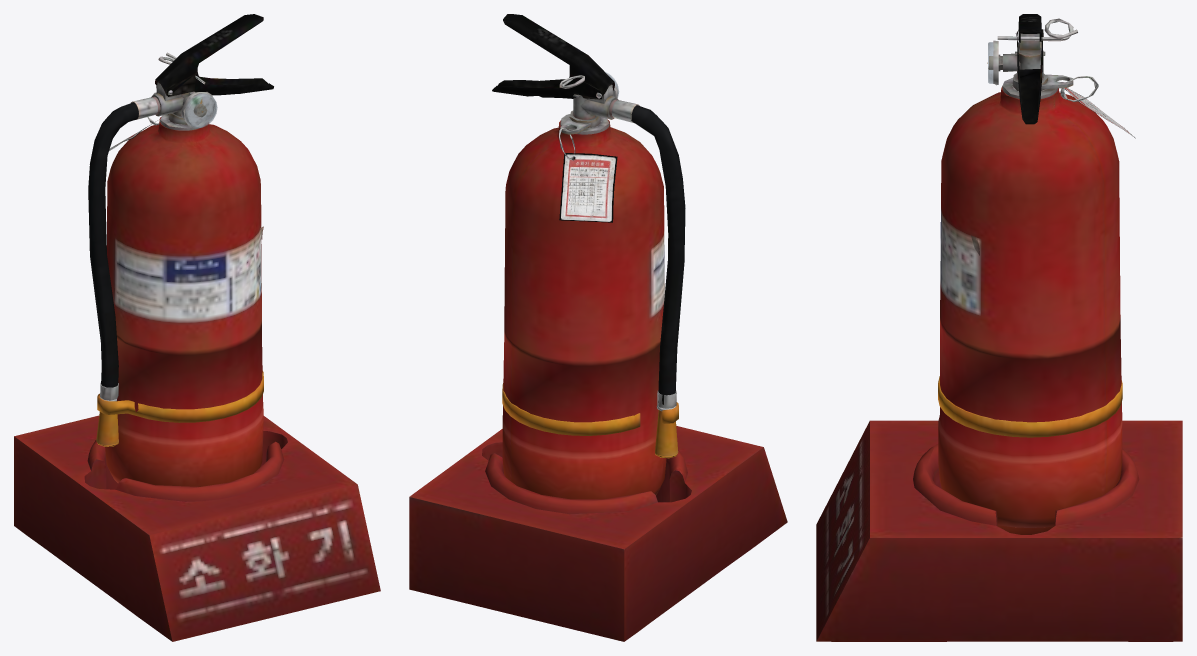
File: korean_fire_extinguisher_01.glb
The picture shows the model from 3 angles, left to right: view 1: azimuth 30°, elevation 25°; view 2: azimuth 150°, elevation 25°; view 3: azimuth 270°, elevation 25°; orthographic projection. The views are drawn at different scales.
Parts seen in each view (by area): view 1: 02_low, 02_low_1; view 2: 02_low, 02_low_2; view 3: 02_low.
Boxes of the visible parts, x1,y1,x2,y2 form: 02_low: (14,14,380,641); 02_low_1: (184,93,217,128); 02_low: (409,14,787,641); 02_low_2: (559,153,617,222); 02_low: (816,14,1182,641).
Size of the model in its own units: 0.28 by 0.6581 by 0.3674.
Materials: 3 (3 with a texture image).
